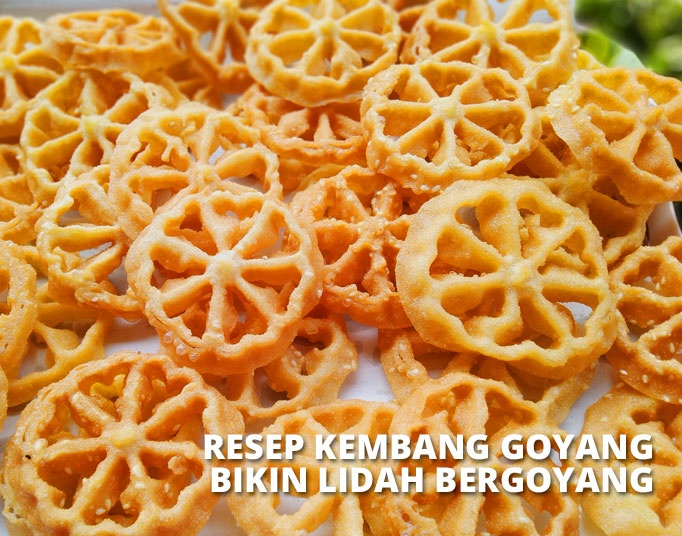kembang_goyang: (397, 171, 631, 365), (126, 177, 320, 365)
